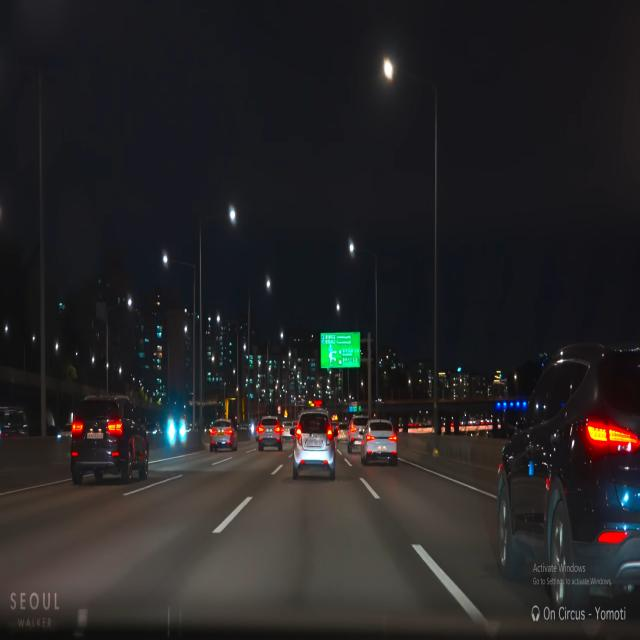headlights: (164, 416, 193, 451)
